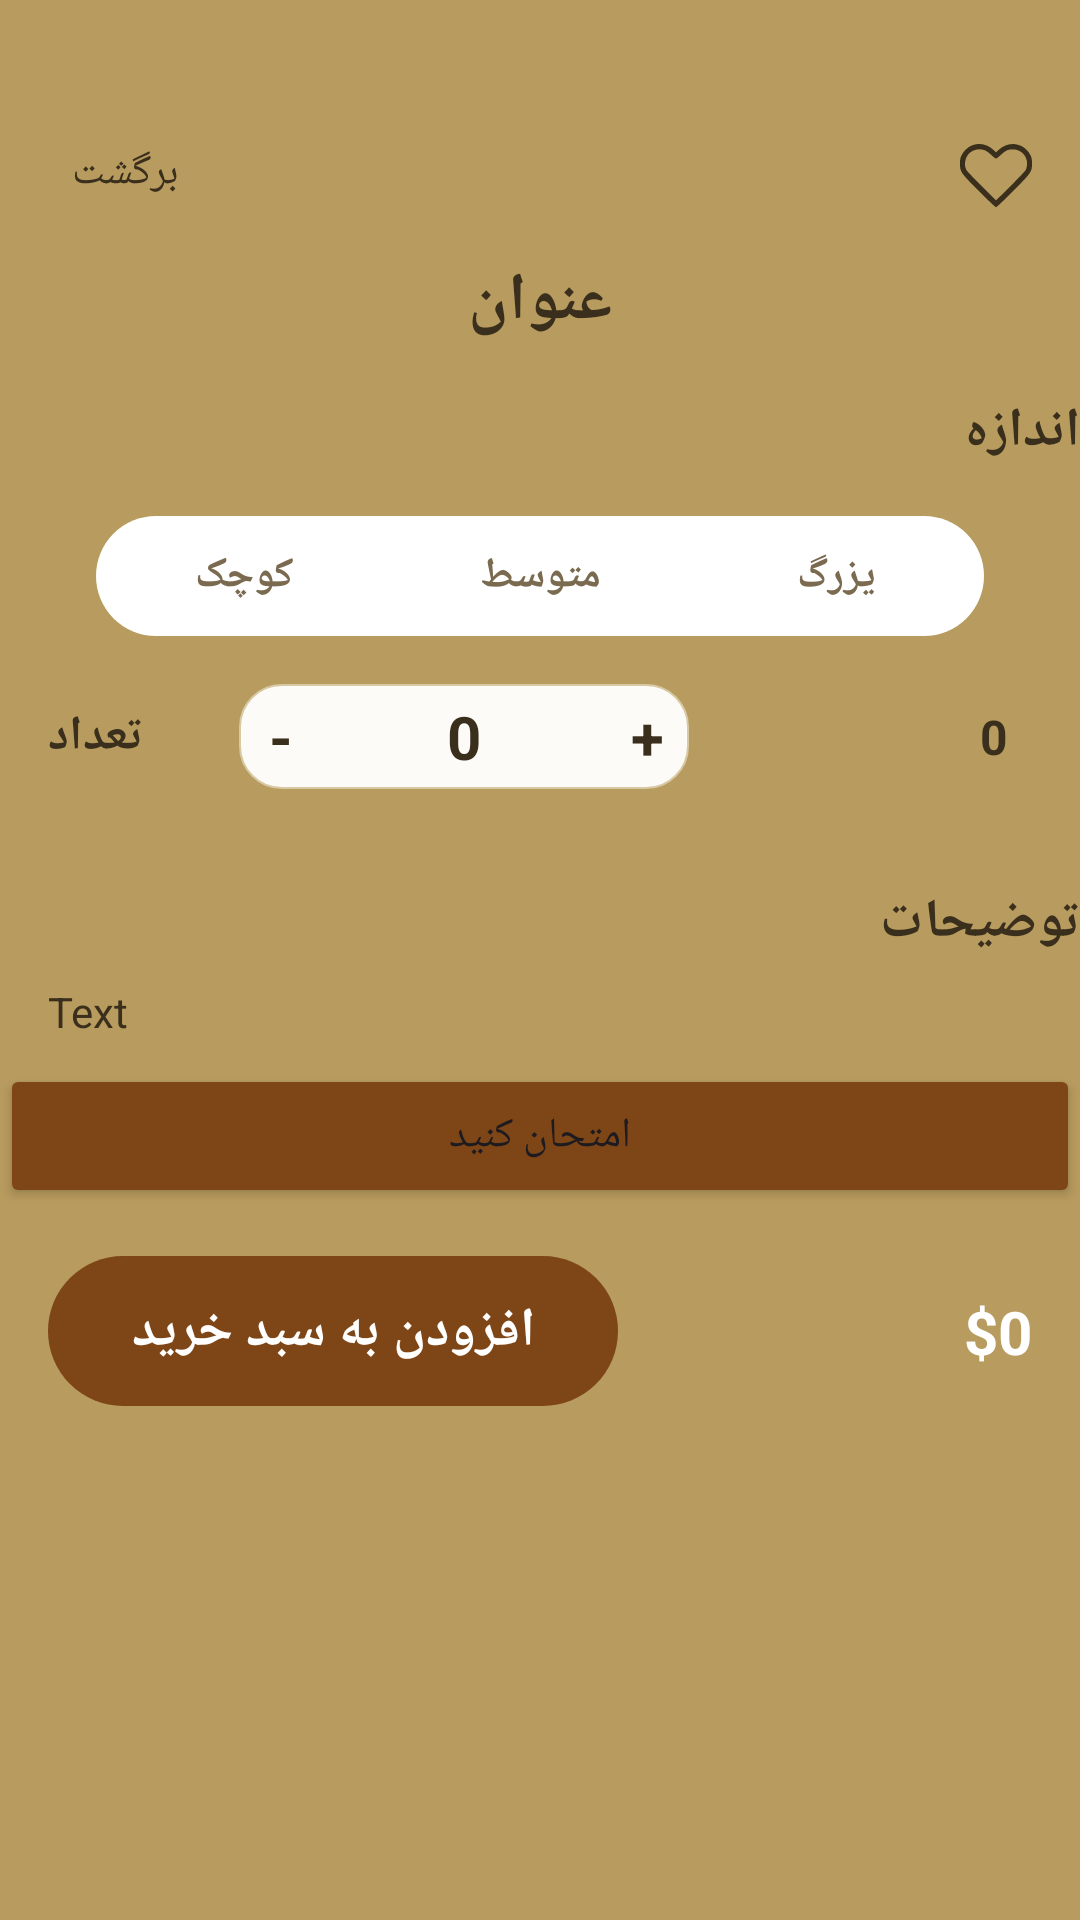

Icons on this 1080px x 1920px Android screen, each with its box as (x1, y1, x2, y2):
favorite: (960, 144, 1032, 207)
